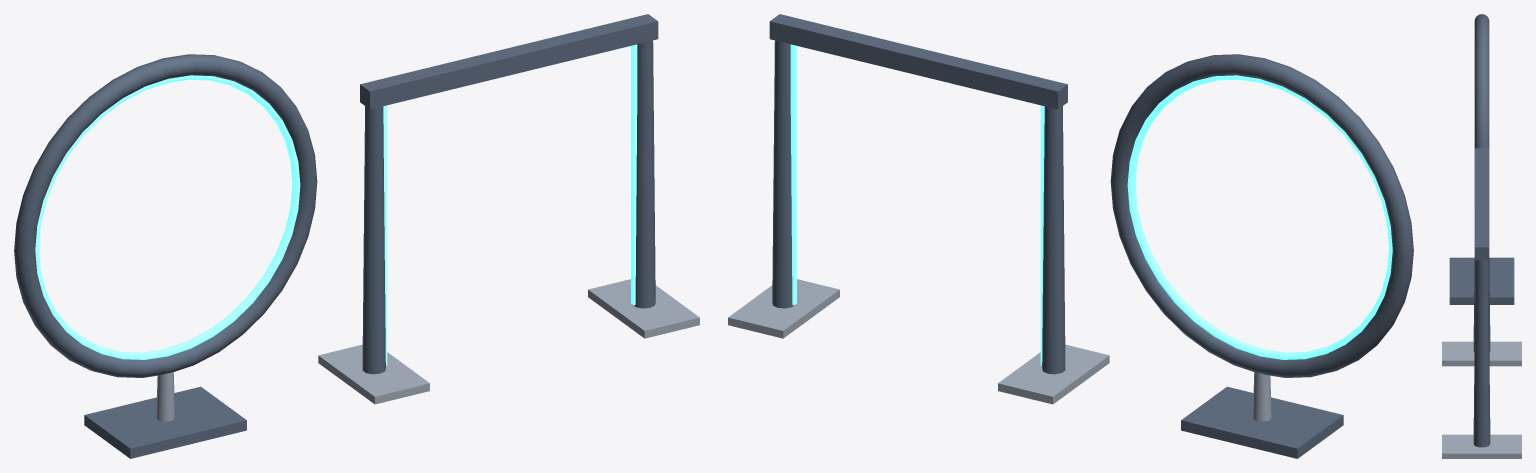
Rendered from racing_rings.glb.
3 views of the same model, side by side, from view 1: azimuth 30°, elevation 25°; view 2: azimuth 150°, elevation 25°; view 3: azimuth 270°, elevation 25° (orthographic). The views are drawn at different scales.
Parts seen in each view (by area): view 1: Neon_Ring_Gate, Track_Arch_Gate; view 2: Neon_Ring_Gate, Track_Arch_Gate; view 3: Track_Arch_Gate, Neon_Ring_Gate.
Boxes of the visible parts, <box> form: Neon_Ring_Gate: <box>14,54,317,458</box>; Track_Arch_Gate: <box>318,14,699,404</box>; Neon_Ring_Gate: <box>1110,54,1413,458</box>; Track_Arch_Gate: <box>728,14,1109,404</box>; Track_Arch_Gate: <box>1442,148,1521,458</box>; Neon_Ring_Gate: <box>1449,14,1514,304</box>.
Bounding box in the file's own units: 5.35 × 2.88 × 0.8.
